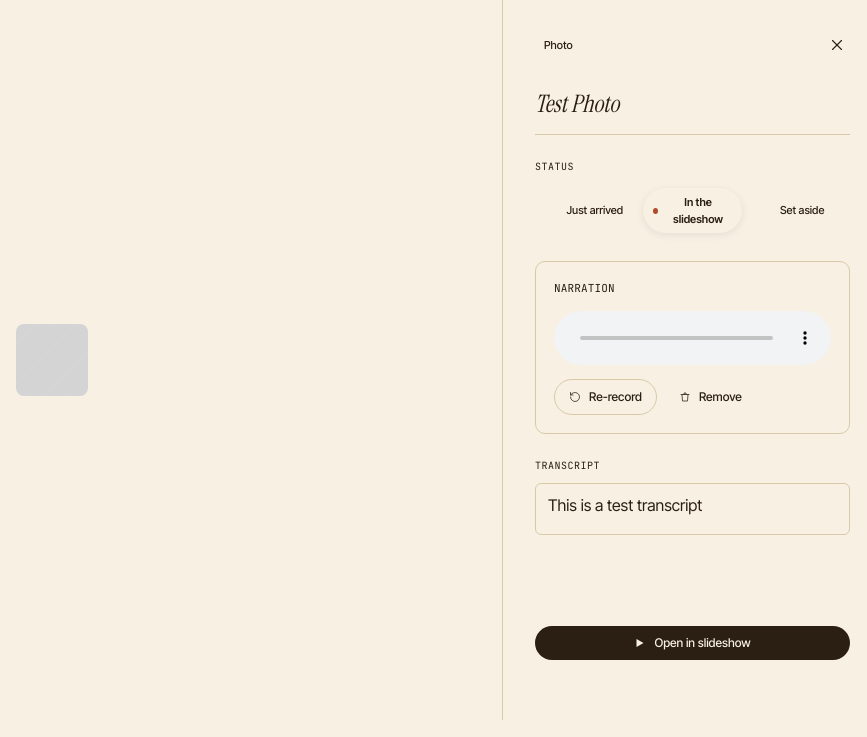
Test: EntryEditor › Delete narration › clears transcript after deleting narration
Check: the text box named "transcript" holds "This is a test transcript", box [535,482,850,534]
Click the button "Remove" at (710, 396), box [665,378,756,414]
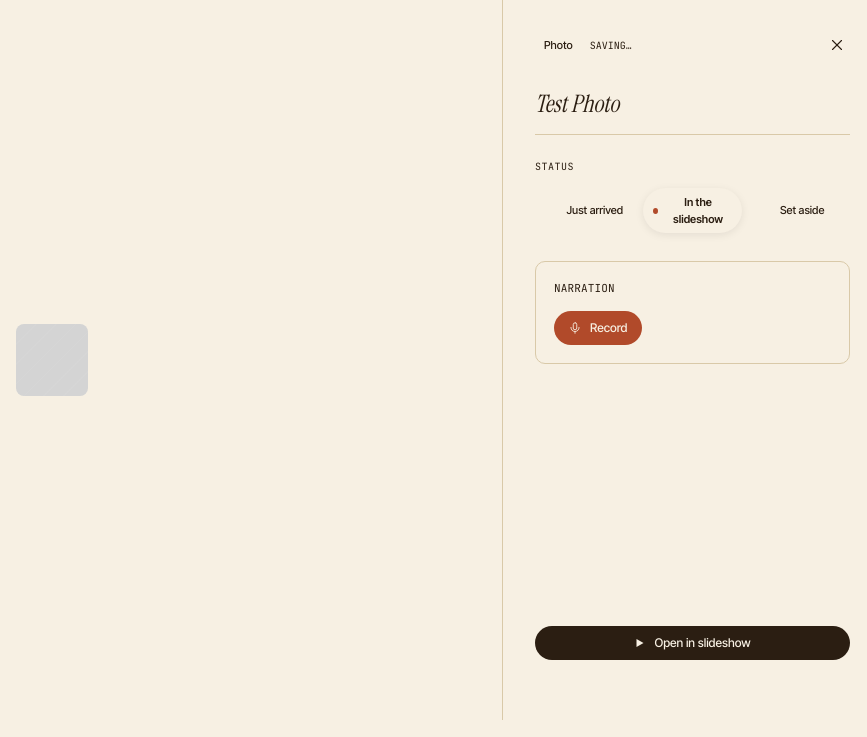
Check: the text box showing "This is a test transcript" is gone
